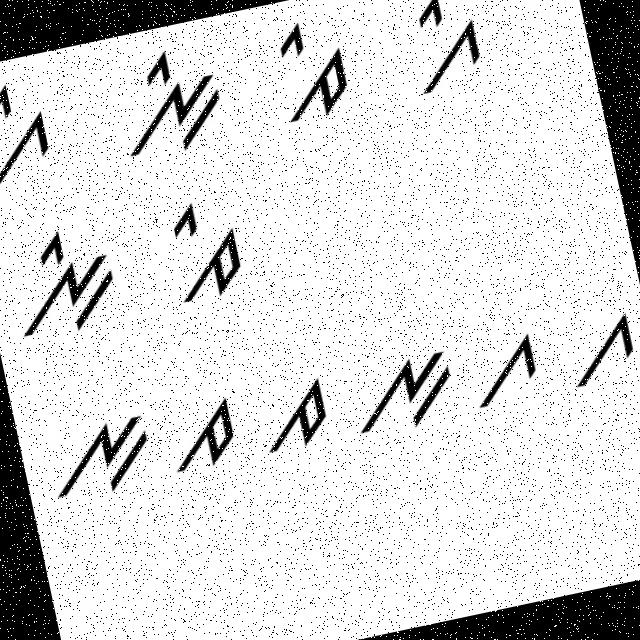ga: (458, 317, 550, 414), (556, 292, 639, 399)
gi: (396, 0, 498, 101), (0, 72, 64, 202)
nga: (32, 396, 160, 514), (340, 336, 464, 452)
ngi: (106, 37, 235, 166), (0, 216, 126, 348)
ta: (244, 359, 338, 458), (162, 382, 247, 480)
ti: (254, 8, 368, 138), (158, 192, 255, 315)
